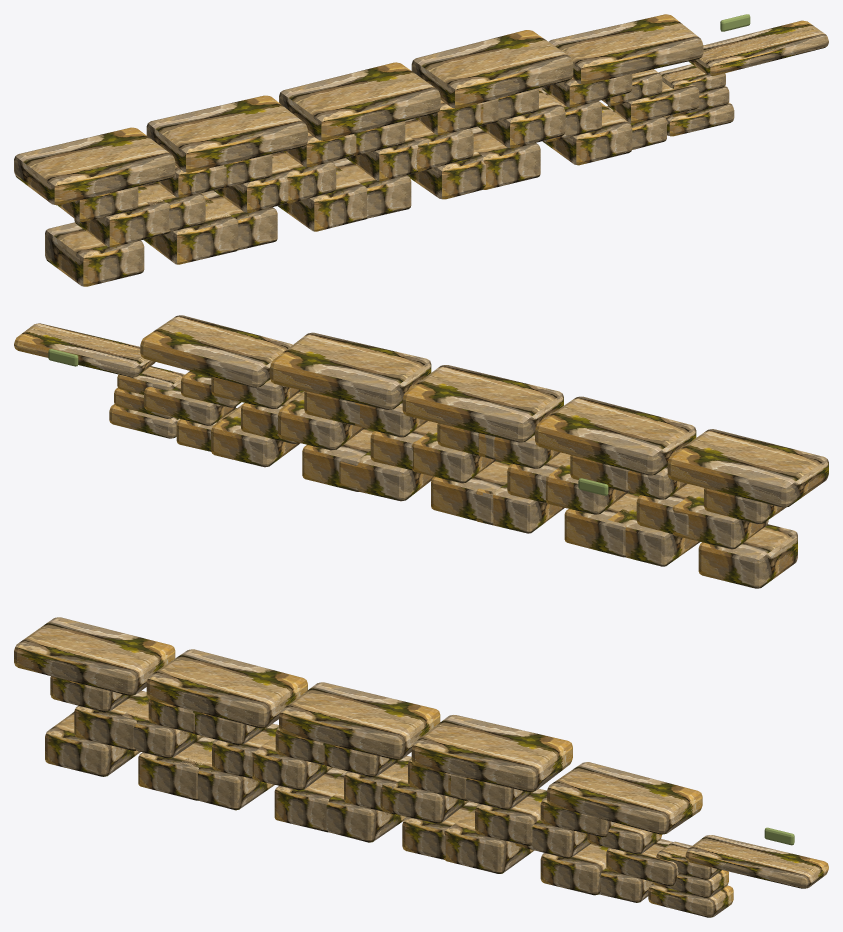
Rendered from drystone_end.glb.
3 renders of one model, top to bottom at view 1: azimuth 30°, elevation 25°; view 2: azimuth 150°, elevation 25°; view 3: azimuth 330°, elevation 25°, orthographic.
Visible parts, largest first — view 1: Painted Cotswold drystone; view 2: Painted Cotswold drystone, Warm wall moss; view 3: Painted Cotswold drystone.
Boxes of the visible parts, x1,y1,x2,y2 form: Painted Cotswold drystone: (14, 14, 828, 286); Painted Cotswold drystone: (14, 315, 828, 588); Warm wall moss: (48, 349, 608, 495); Painted Cotswold drystone: (14, 617, 828, 917).
Size of the model in its own units: 8.55 by 1.19 by 0.8743.
Materials: 2 (1 with a texture image).
